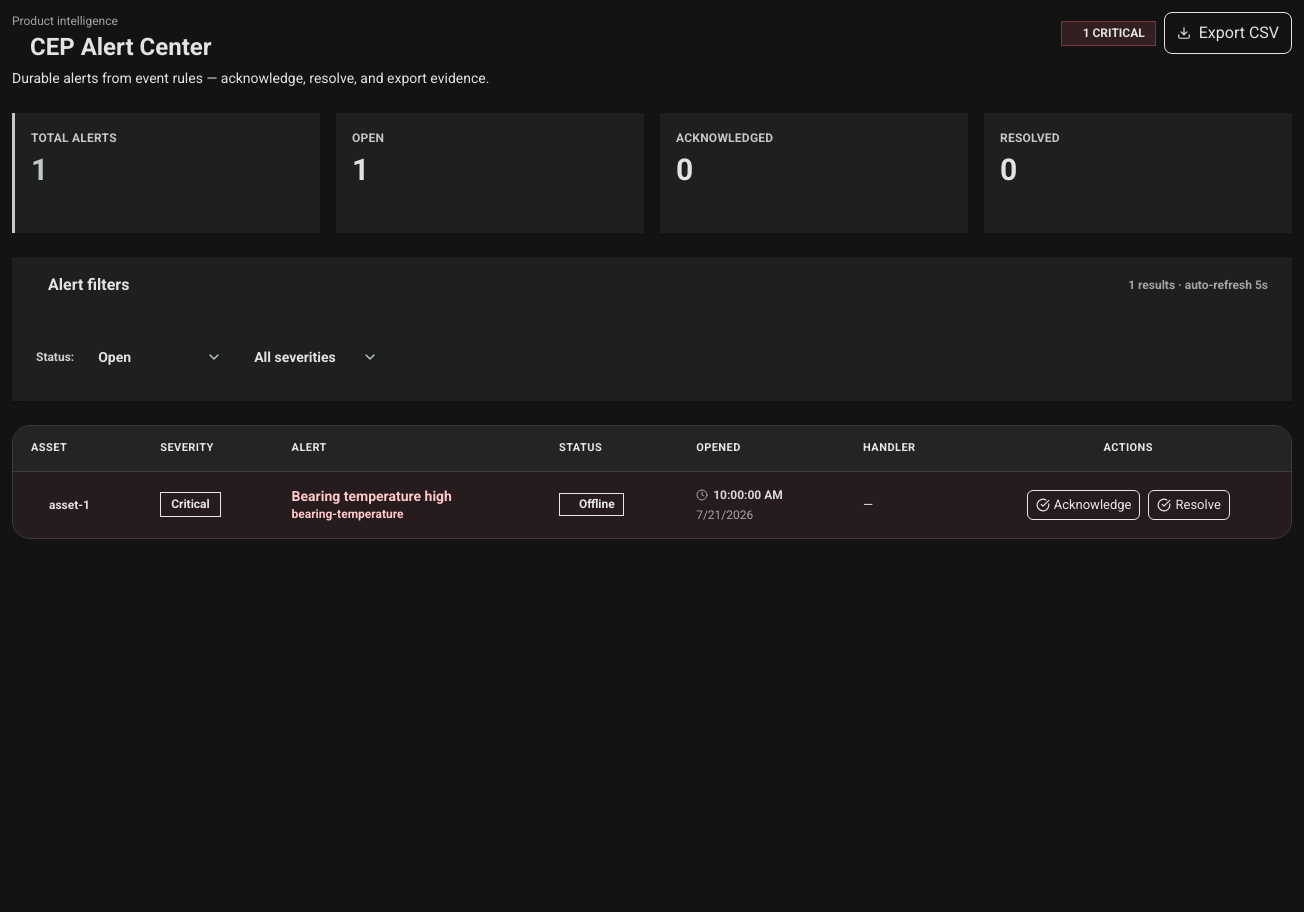
Scenario: AlertCenterPage › loads and renders structured evidence when an alert is expanded
The width and height of the screenshot is (1304, 912).
Click the button "Bearing temperature high bearing-temperature" at {"x": 372, "y": 504}, box [292, 486, 452, 522]
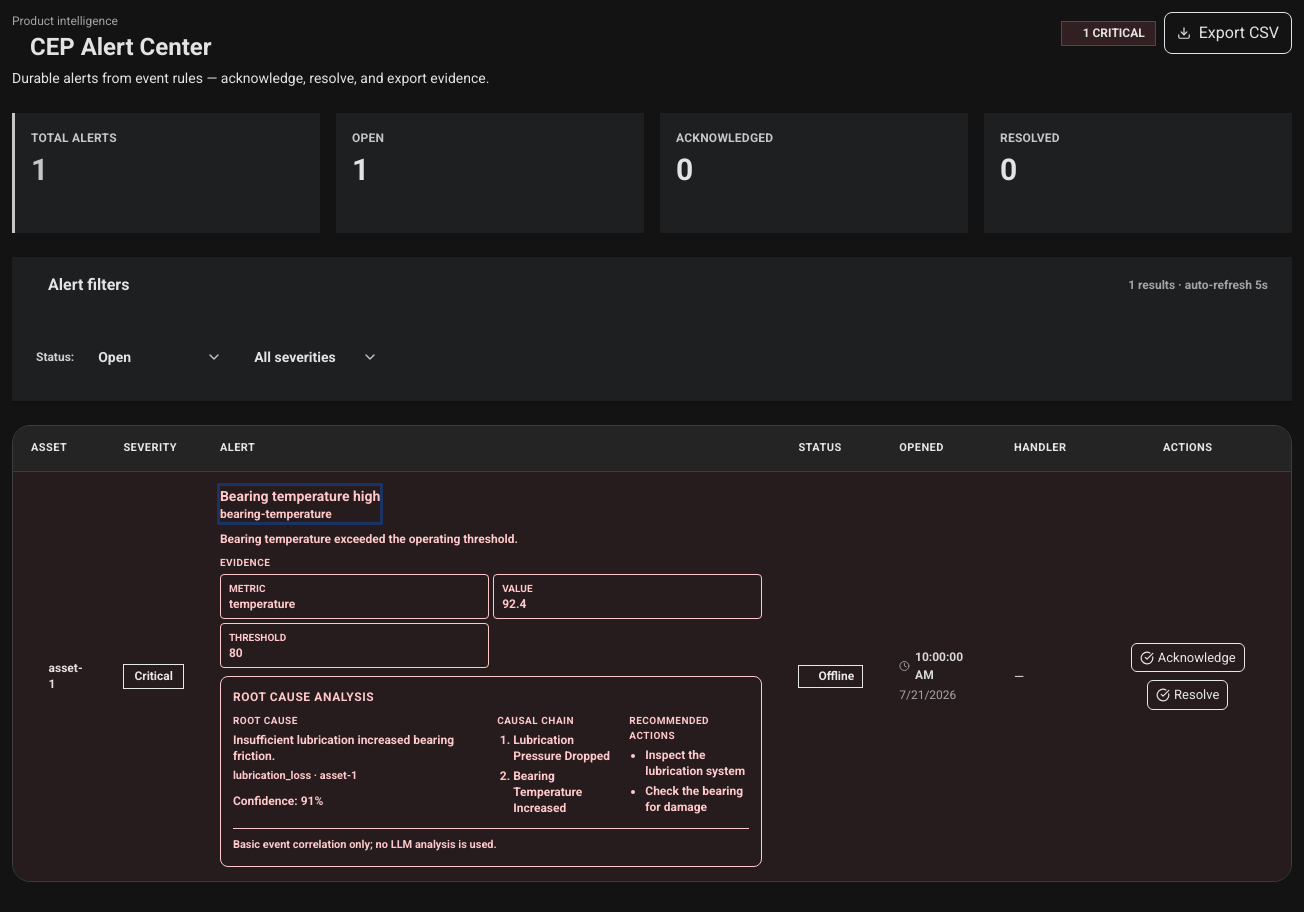
Result: the text "Evidence" is shown at [220, 557, 270, 568]
Result: the text "metric" is shown at [229, 583, 266, 594]
Result: the text "temperature" is shown at [229, 597, 295, 611]
